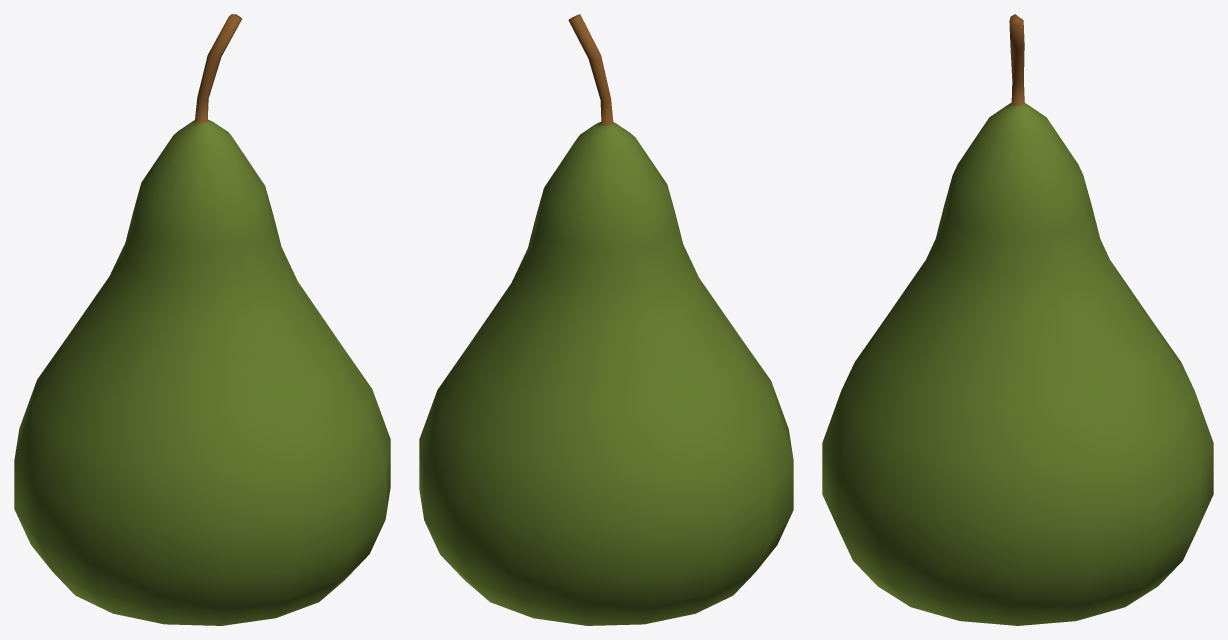
File: food_pear.fbx
3 views of the same model, side by side, from view 1: azimuth 30°, elevation 25°; view 2: azimuth 150°, elevation 25°; view 3: azimuth 270°, elevation 25° (orthographic). The views are drawn at different scales.
Parts seen in each view (by area): view 1: food_pear; view 2: food_pear; view 3: food_pear.
Part boxes in pixels (box(x1,y1,x2,y2)): food_pear: box(14, 14, 390, 625); food_pear: box(419, 14, 793, 625); food_pear: box(822, 14, 1213, 625).
Size of the model in its own units: 8.78 by 14.67 by 8.78.
